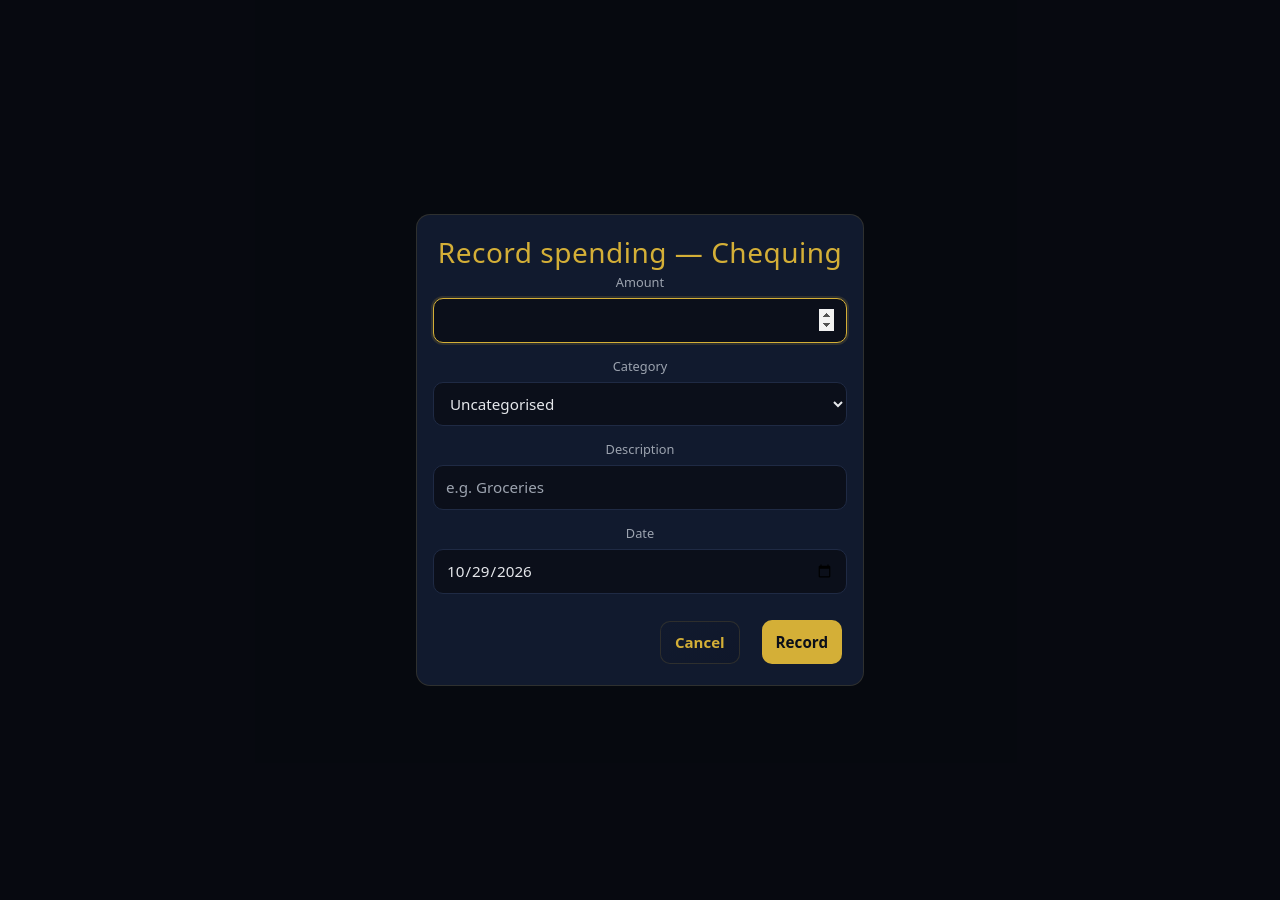
Test: recording spending from an account › stays open and shows why when the write fails
Type "12" into the number field labelled "Amount" at (640, 320), box [433, 298, 847, 342]
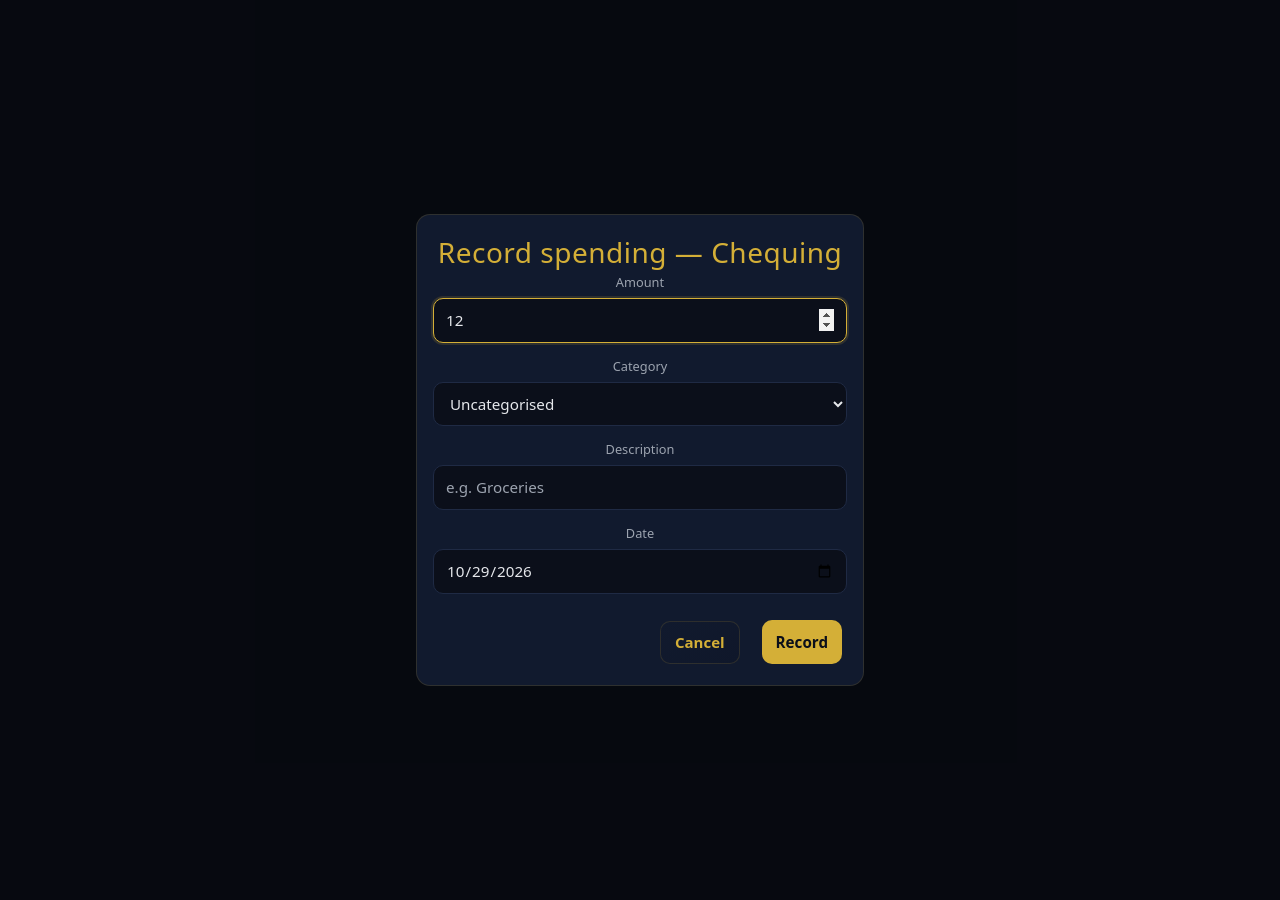
Click the button "Record" at (802, 642), box [762, 620, 842, 664]
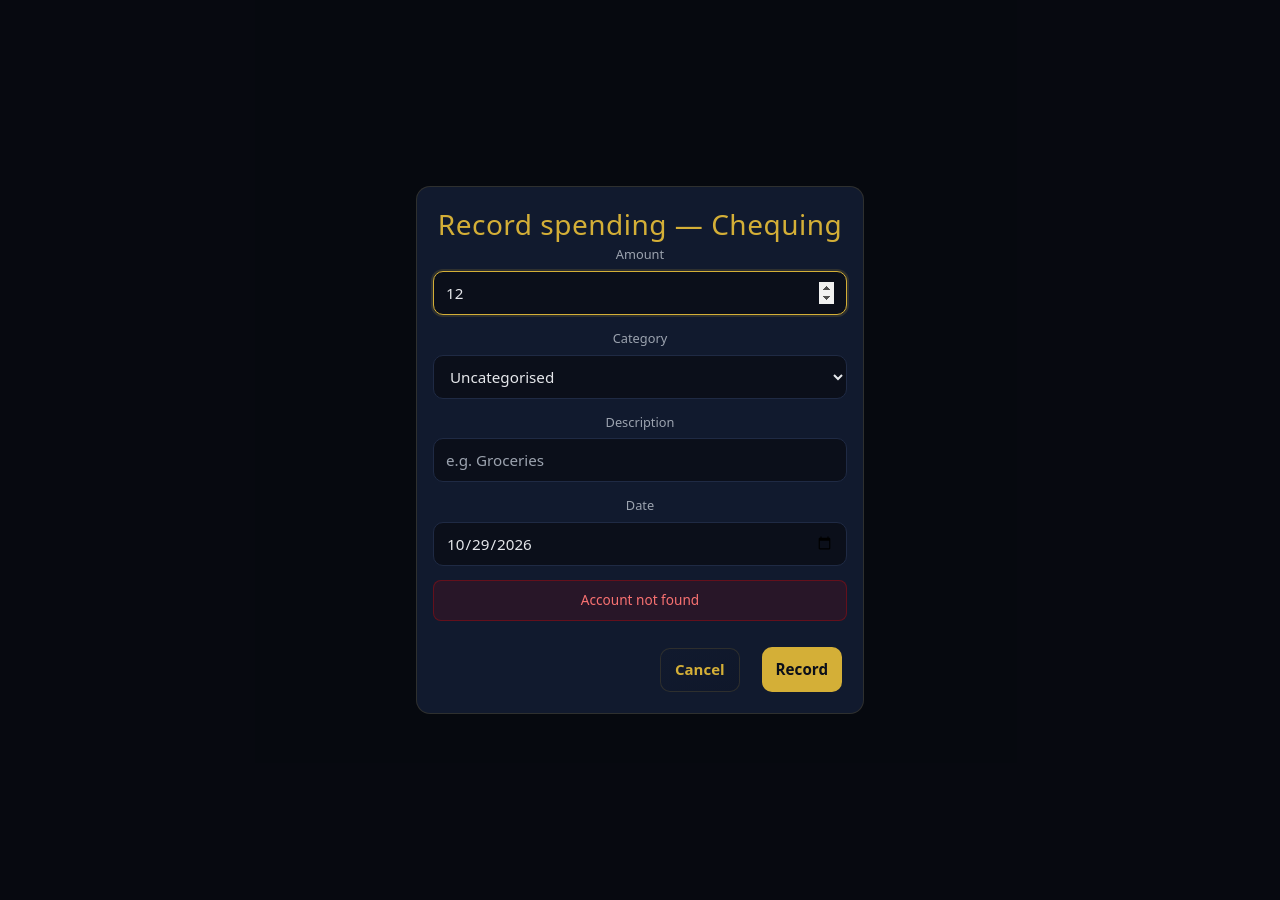
Expected: the text "Account not found" is shown, [433, 580, 847, 621]
